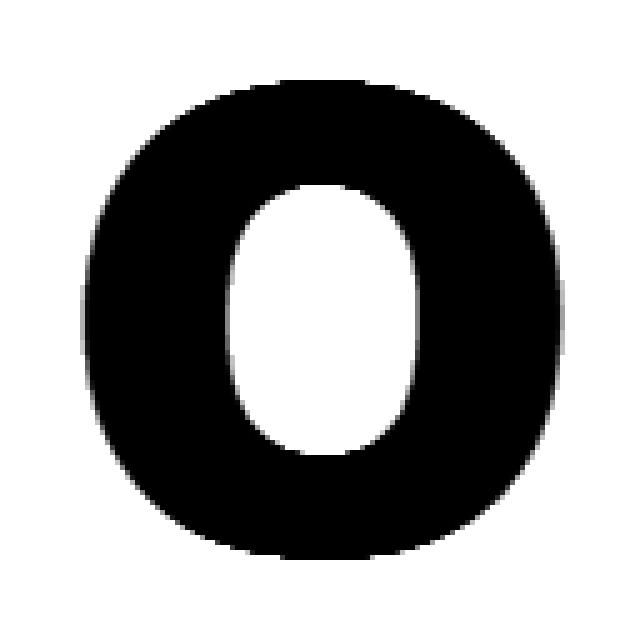O: (75, 70, 565, 560)
